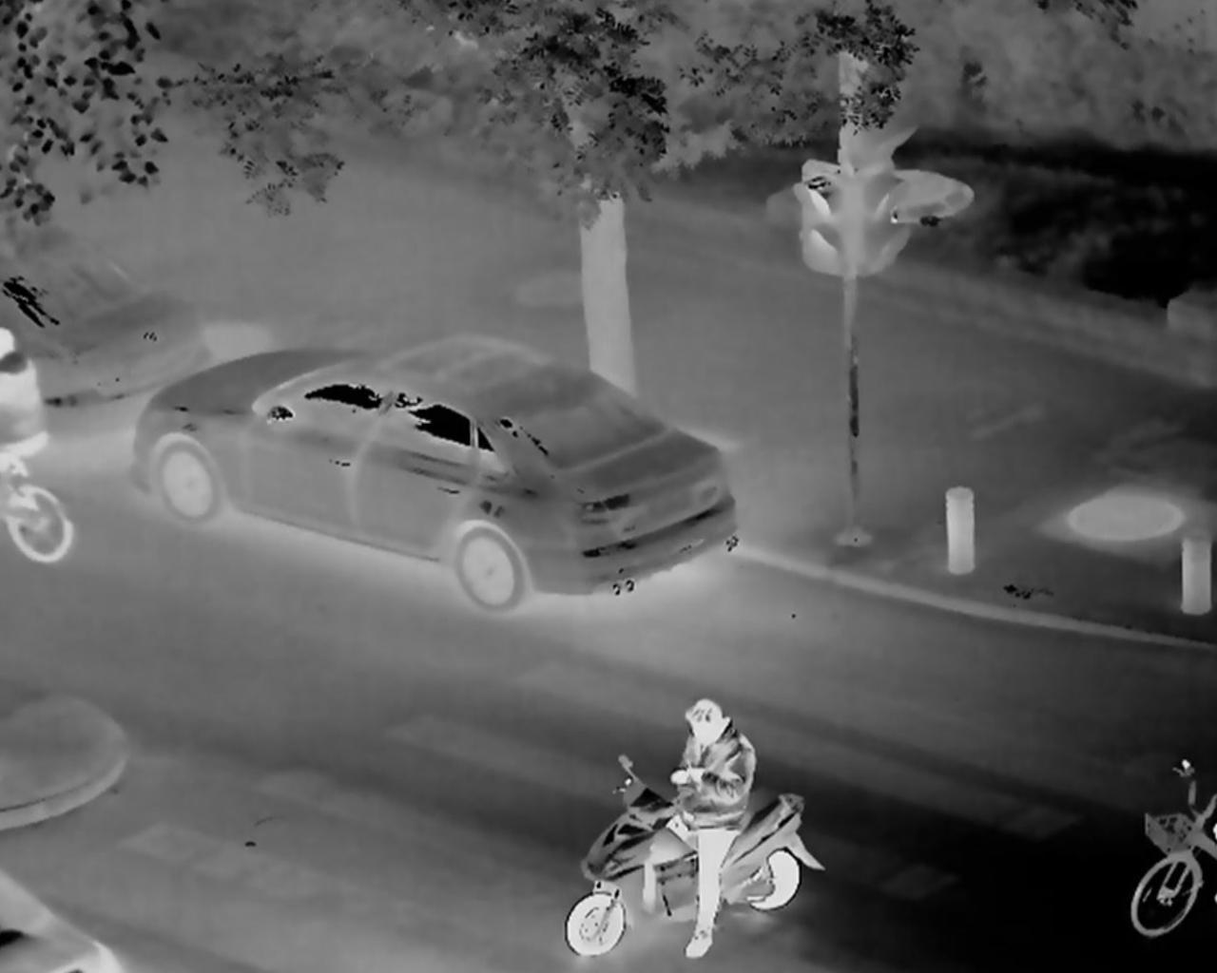person: (638, 699, 753, 962)
